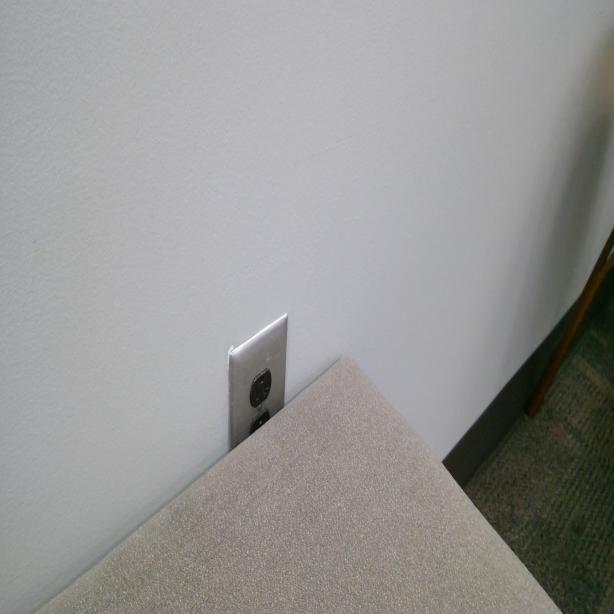typeb: (252, 374, 272, 403)
